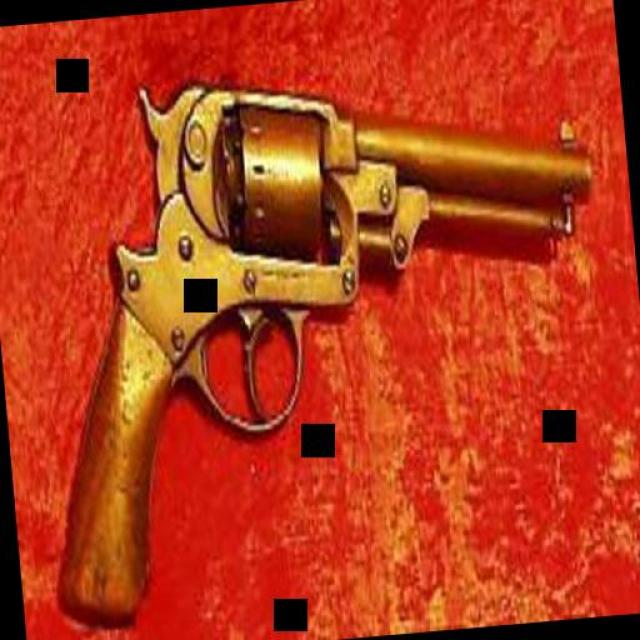gun: (9, 42, 630, 634)
